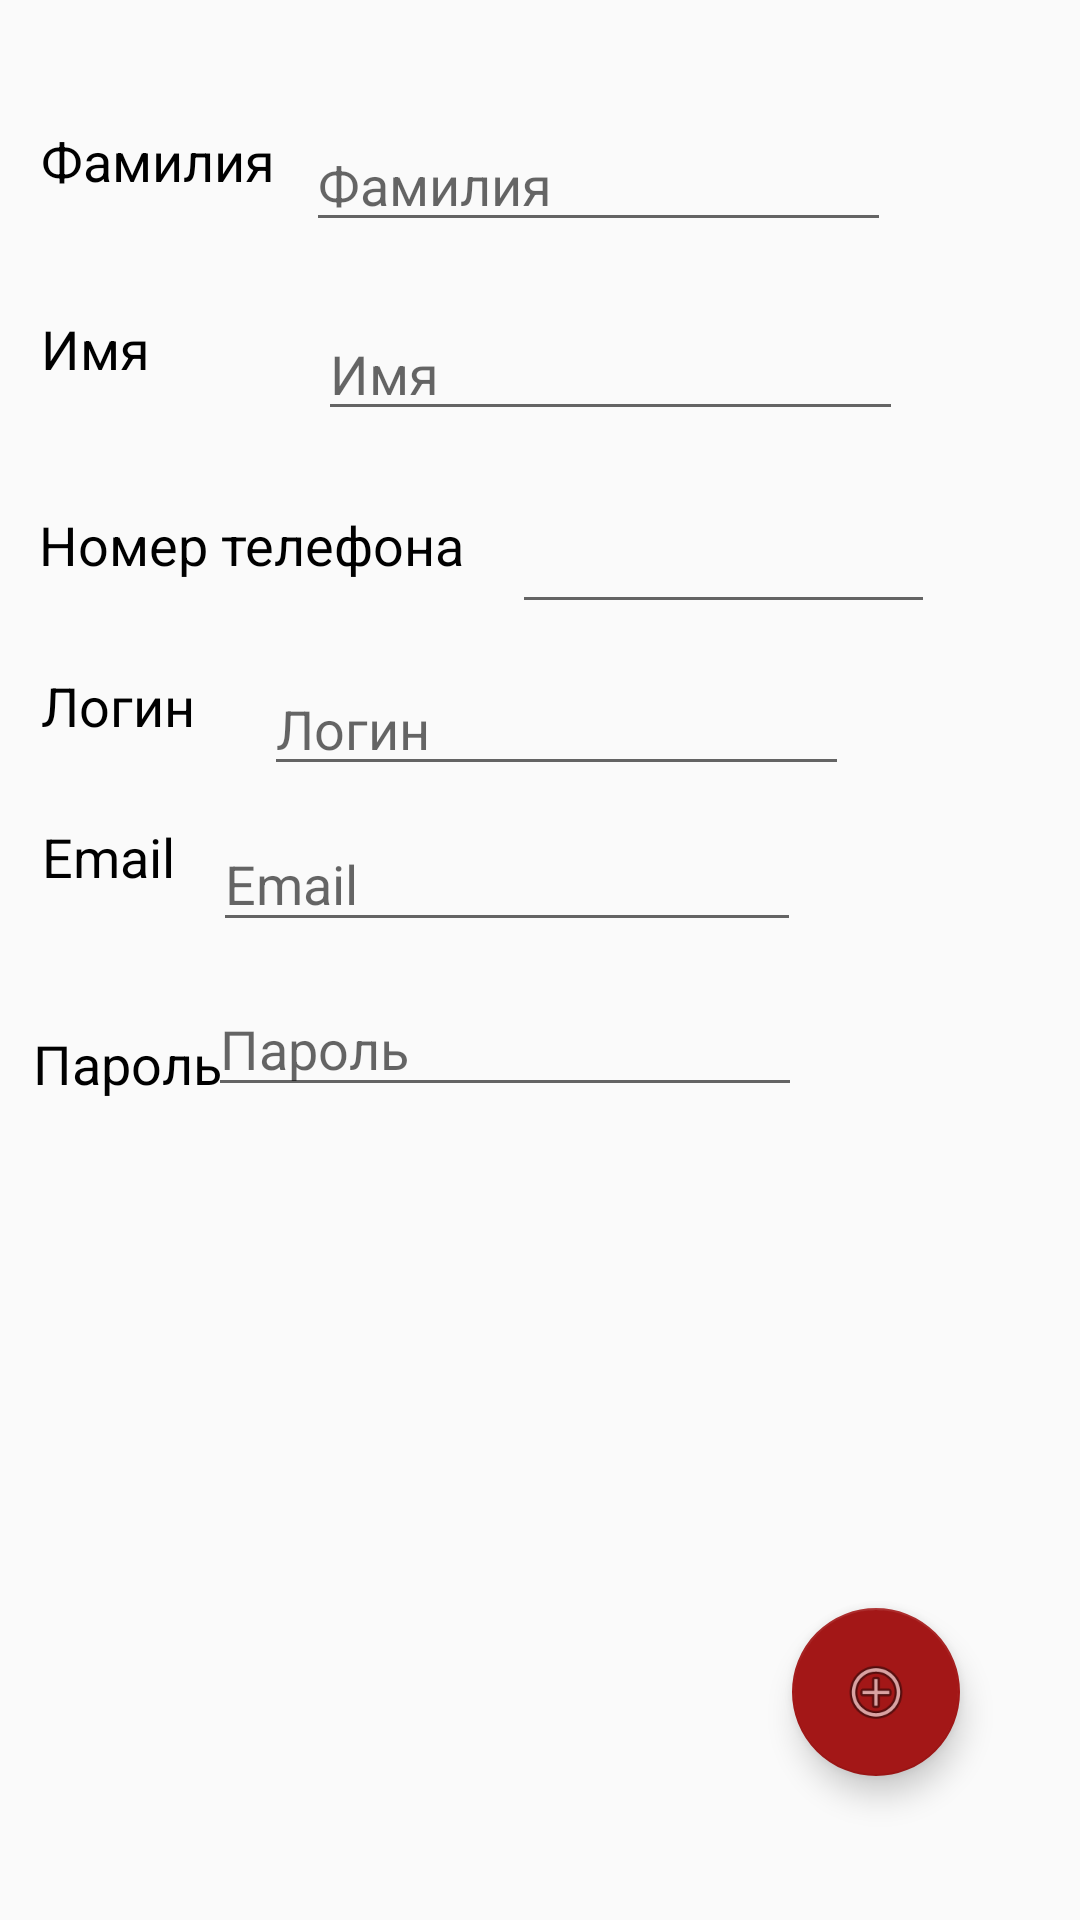

Icon bounding boxes for this 1080×1920 phone screenshot, format (x1, y1, x2, y2):
add: (792, 1608, 960, 1776)
